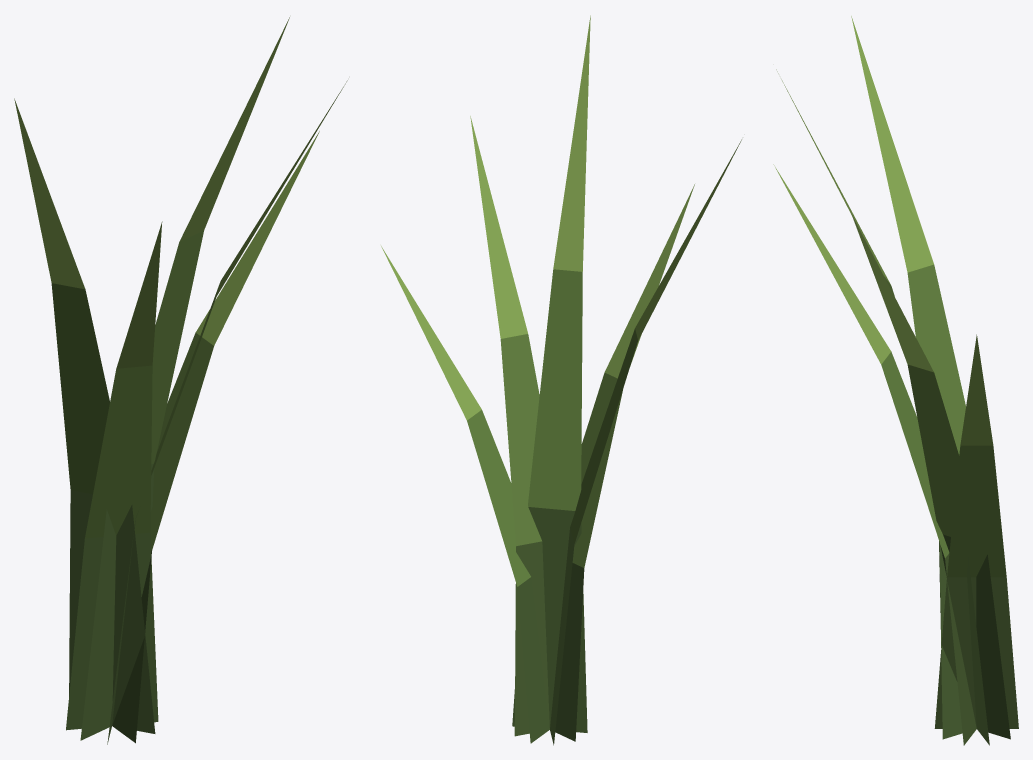
The model's file is grass.obj.
3 views of the same model, side by side, from view 1: azimuth 30°, elevation 25°; view 2: azimuth 150°, elevation 25°; view 3: azimuth 270°, elevation 25° (orthographic). The views are drawn at different scales.
Visible parts, largest first — view 1: grass; view 2: grass; view 3: grass.
Boxes of the visible parts, bbox=[...] form: grass: bbox=[14, 17, 347, 744]; grass: bbox=[381, 15, 741, 745]; grass: bbox=[773, 16, 1018, 745].
Size of the model in its own units: 0.5065 by 1 by 0.3213.
